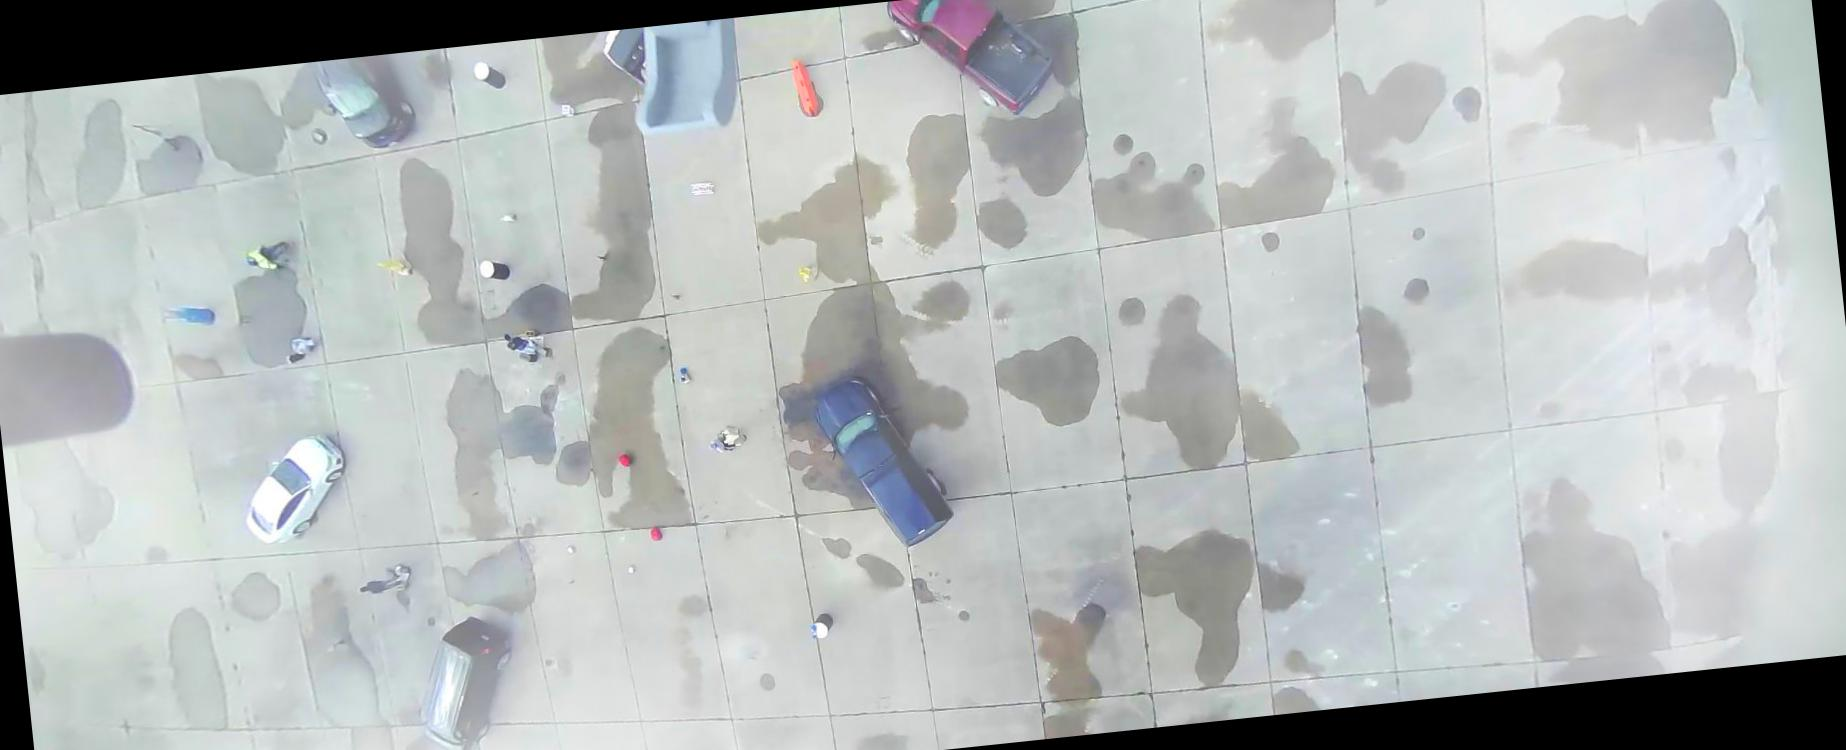vehicle: (811, 371, 956, 555), (885, 0, 1061, 130), (409, 612, 523, 749), (238, 431, 354, 549), (310, 52, 418, 155), (602, 27, 651, 92)
